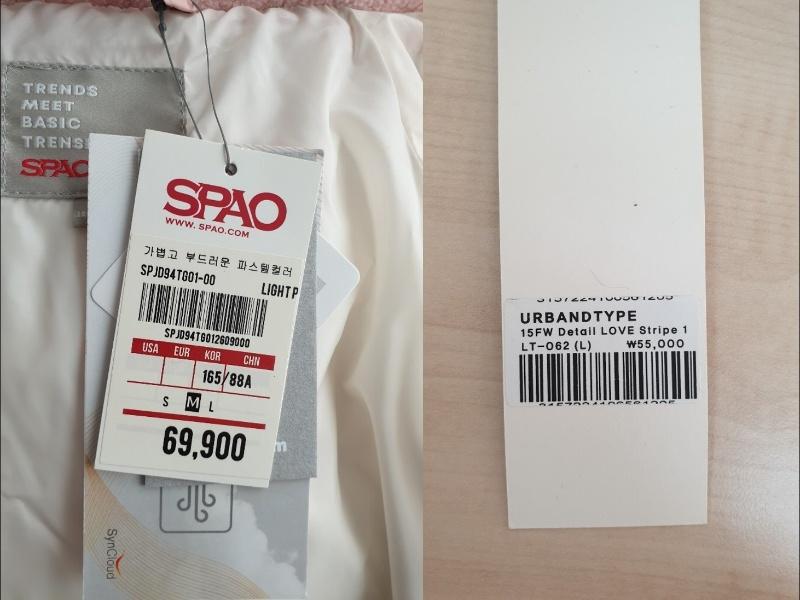tag: (495, 1, 713, 529), (99, 126, 322, 488)
text: (143, 242, 296, 278), (159, 423, 249, 464), (522, 322, 689, 337), (161, 324, 253, 350), (138, 259, 218, 288), (517, 306, 639, 323), (202, 365, 259, 389), (259, 274, 299, 301), (518, 340, 595, 352), (622, 336, 683, 350)
